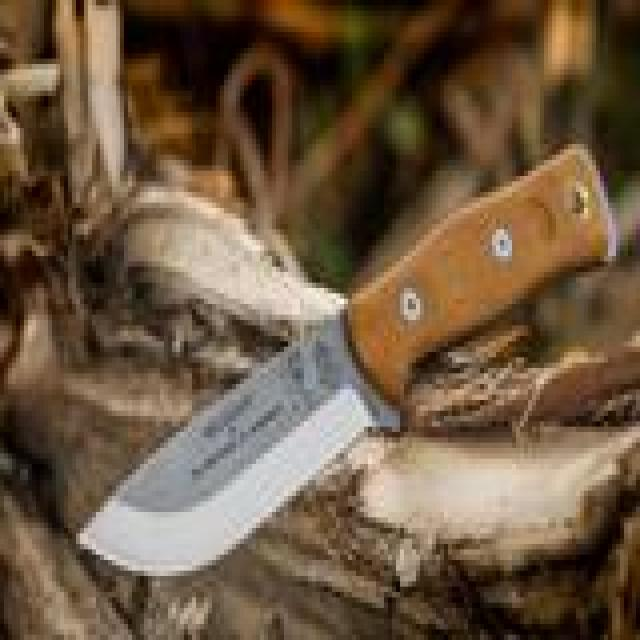Knife: (66, 132, 618, 594)
